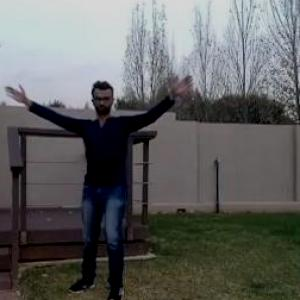takeoff: (12, 77, 192, 294)
